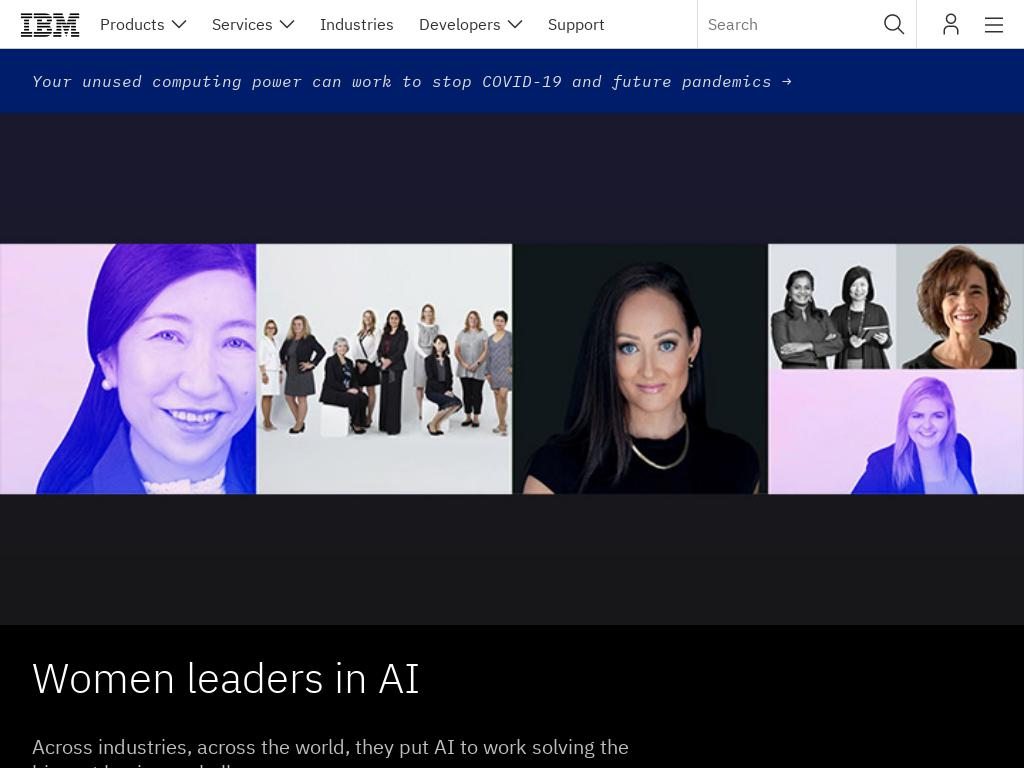button: (32, 69, 992, 93), (419, 0, 523, 48), (100, 0, 187, 48), (212, 0, 295, 48), (320, 0, 394, 48), (20, 0, 80, 48), (548, 0, 605, 48), (873, 0, 916, 48), (985, 0, 1004, 48), (942, 0, 960, 48)
field: (697, 0, 917, 48)
heading: (32, 653, 965, 702)
image: (0, 113, 1024, 625)
link: (32, 71, 772, 91)
text: (32, 734, 632, 768), (0, 0, 1024, 19), (772, 71, 792, 91)
